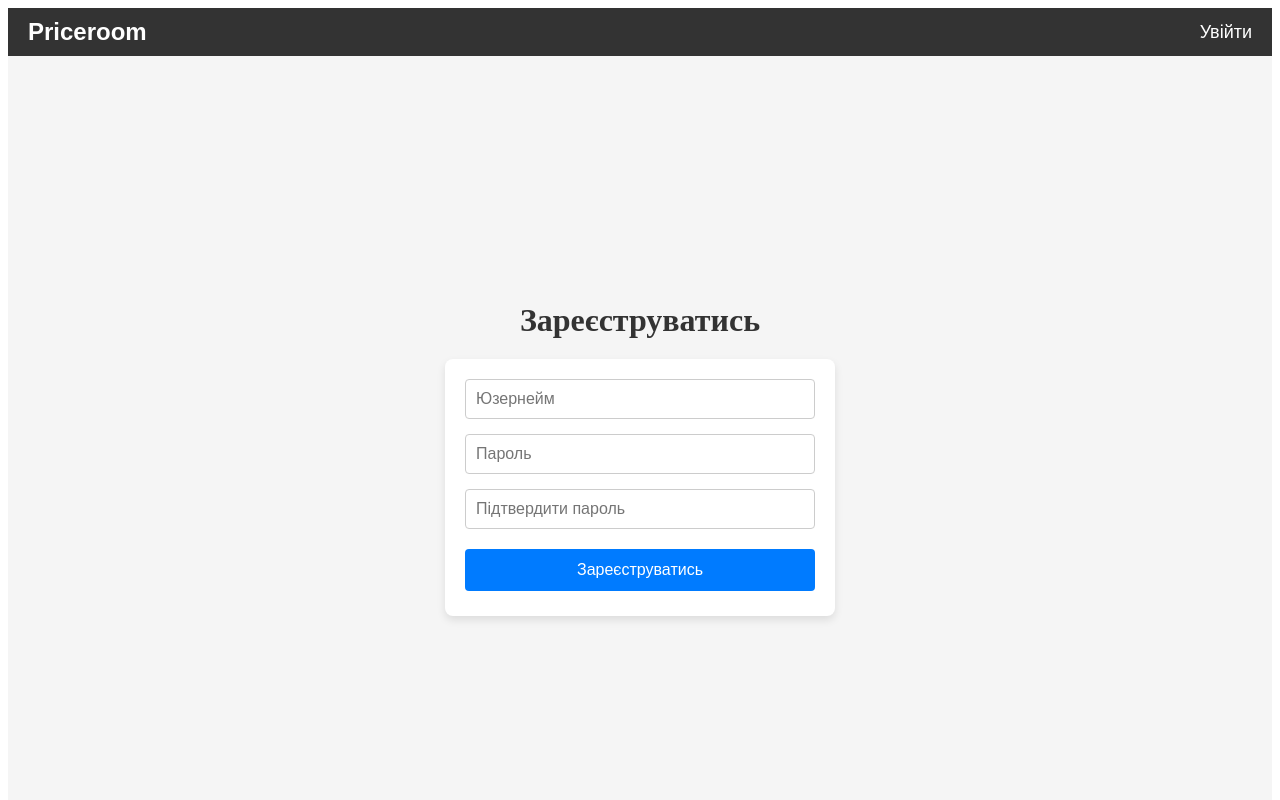
Test: SignUp Page Tests › should display an error if the passwords do not match
Step 1. Type "teste2e" into the field with placeholder "Юзернейм" → (640, 399), box [465, 379, 815, 419]
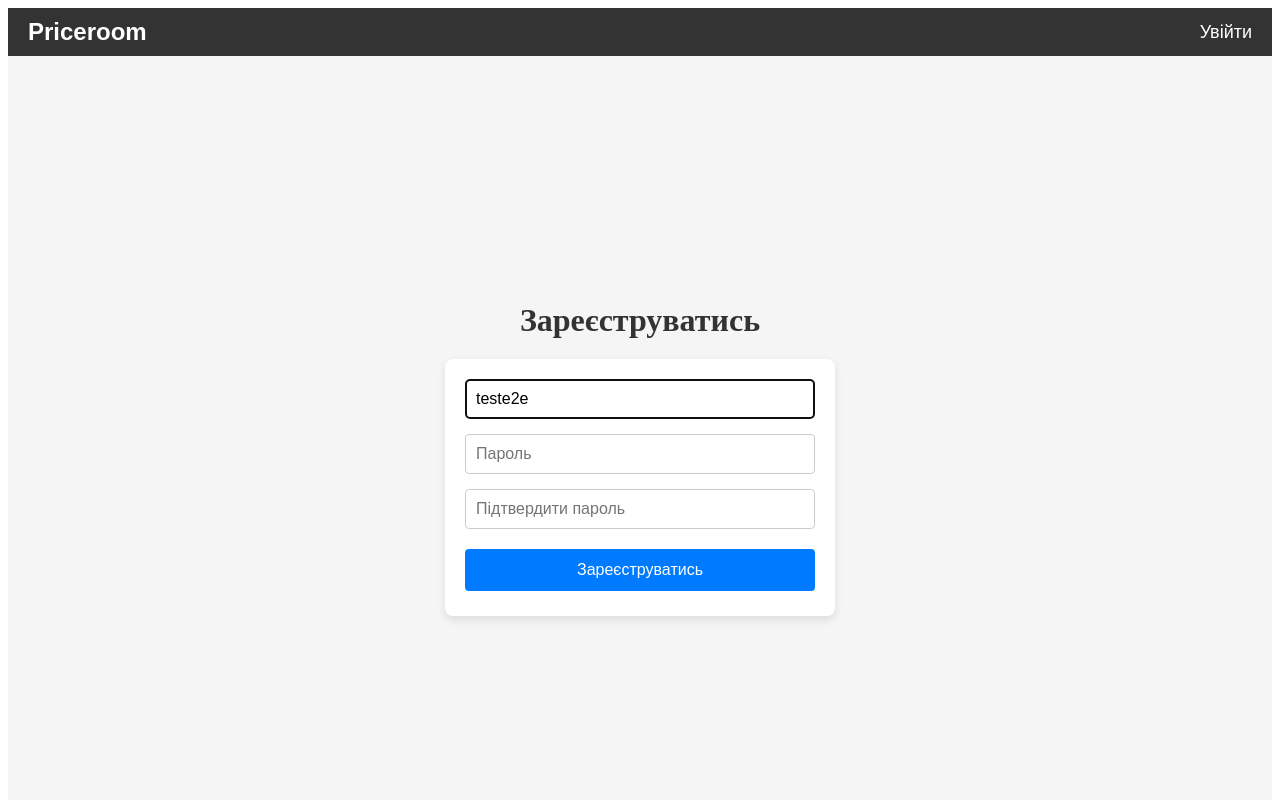
Step 2. Type "password123" into the password field with placeholder "Пароль" → (640, 454), box [465, 434, 815, 474]
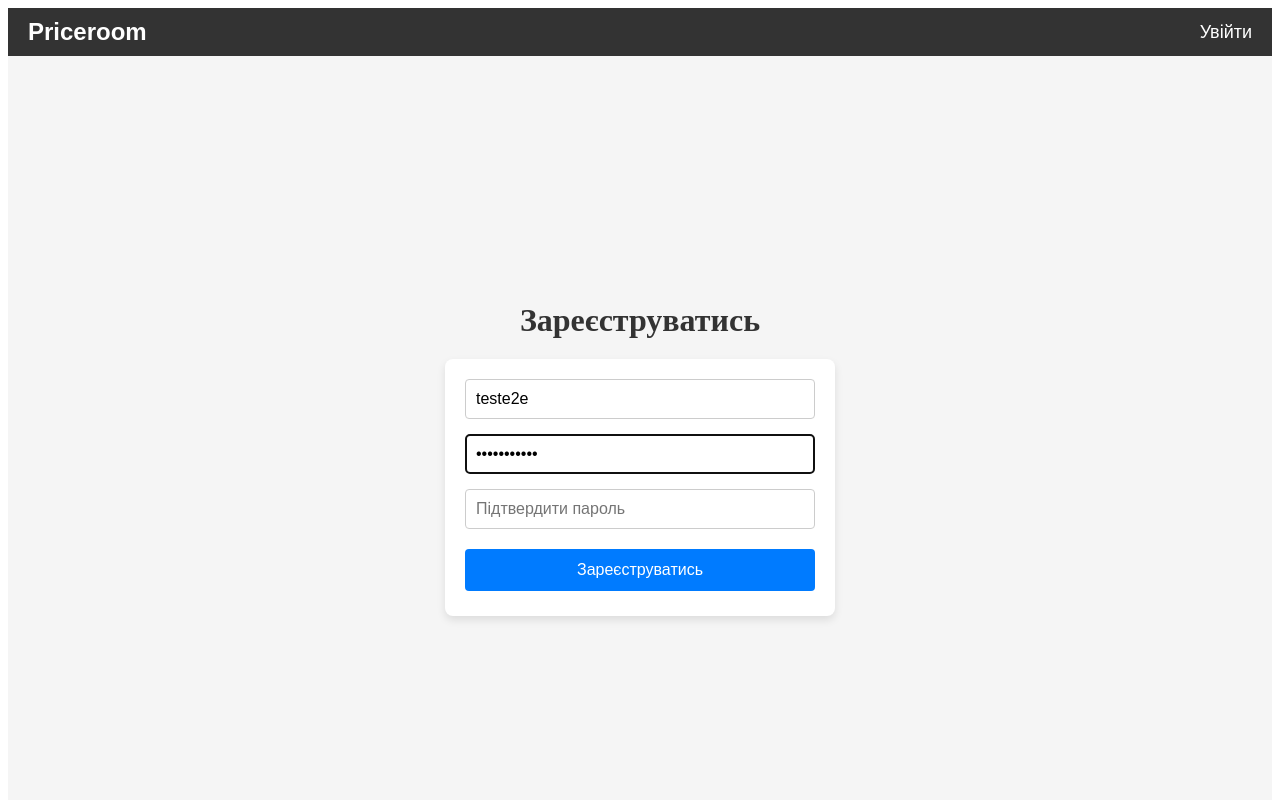
Step 3. Type "password1234" into the password field with placeholder "Підтвердити пароль" → (640, 509), box [465, 489, 815, 529]
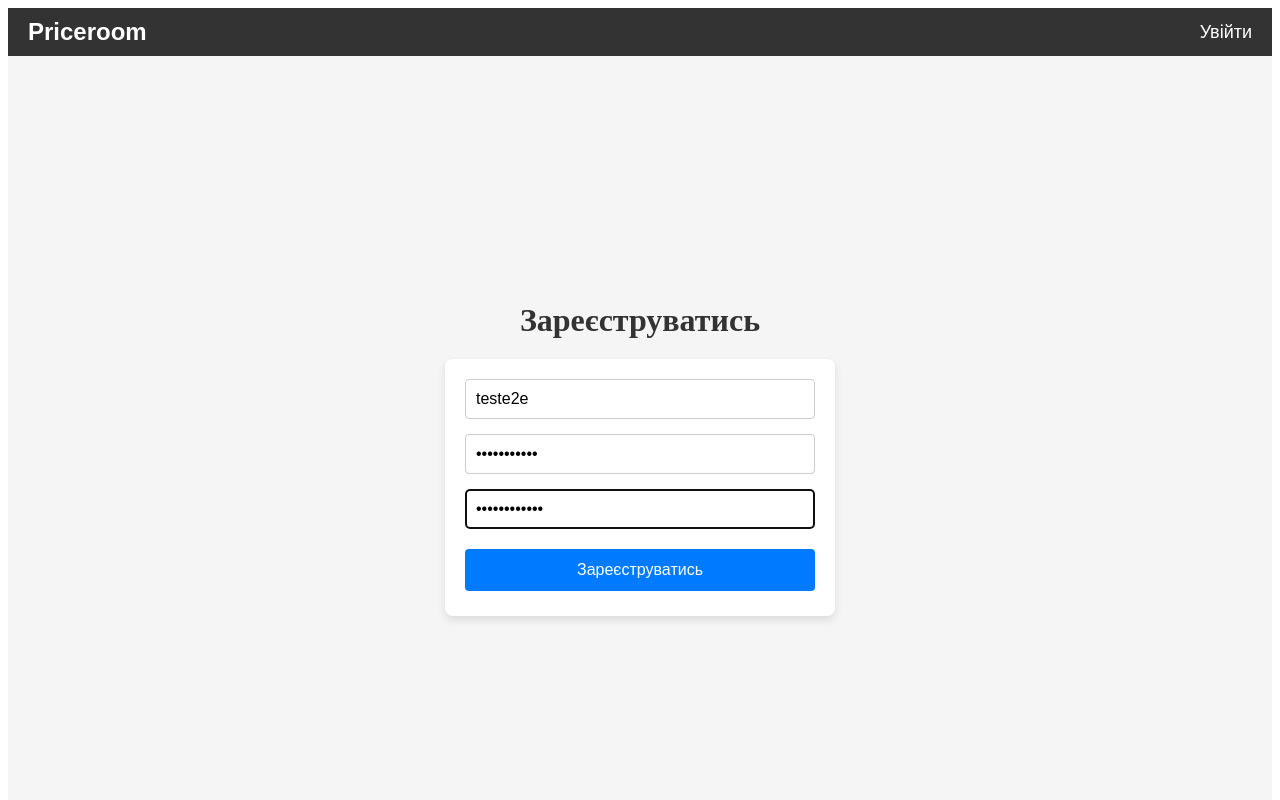
Step 4. Click the button "Зареєструватись" → (640, 570), box [465, 549, 815, 591]
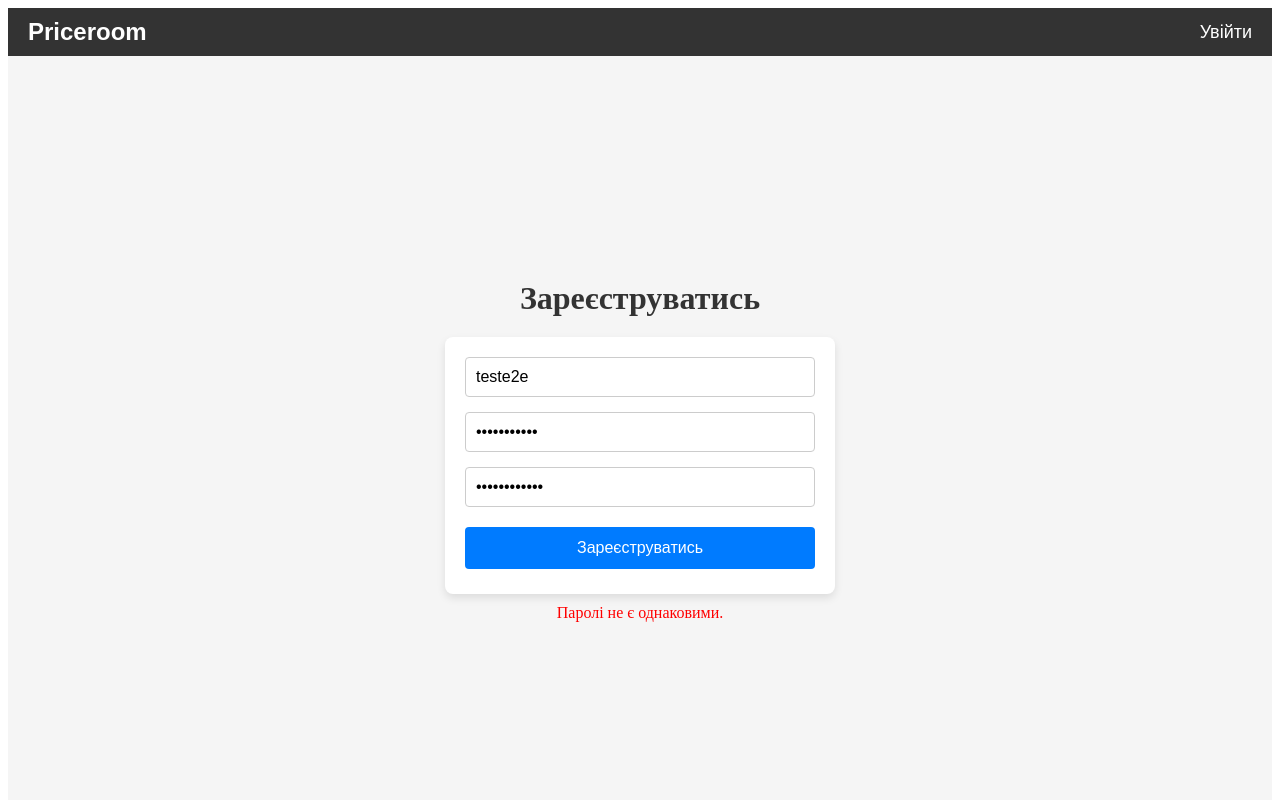
Check: the text "Паролі не є однаковими." is shown, box [557, 604, 723, 622]
